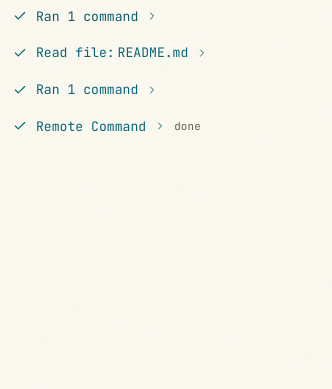
ChatToolActivity › does not group bash across other tools or treat similarly named extension tools as bash
The width and height of the screenshot is (332, 389).
expect the text "Ran 1 command" is shown 2 times: met, box [36,6,138,26]; [36,79,138,100]
expect the 2nd element showing "Ran 1 command" does not show "$ ls": met, box [13,81,158,98]
Click the 1st heading "Ran 1 command": (86, 16) [13,8,158,24]
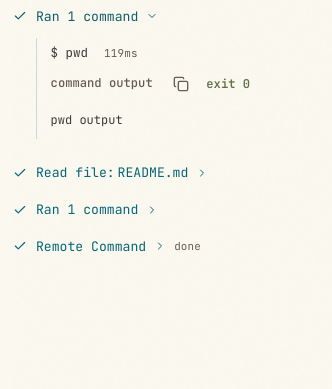
expect the text "$ ls" is not shown: met
expect the text "$ pwd" is shown: met, box [51,43,88,62]
Click the 2nd heading "Ran 1 command": (86, 210) [13,201,158,218]
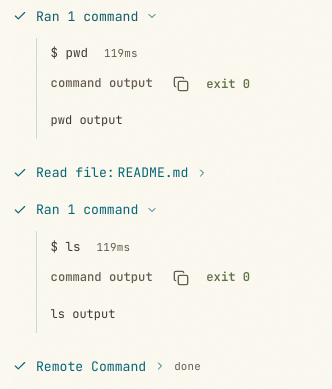
expect the text "$ pwd" is shown: met, box [51,43,88,62]
expect the text "$ ls" is shown: met, box [51,237,80,256]
